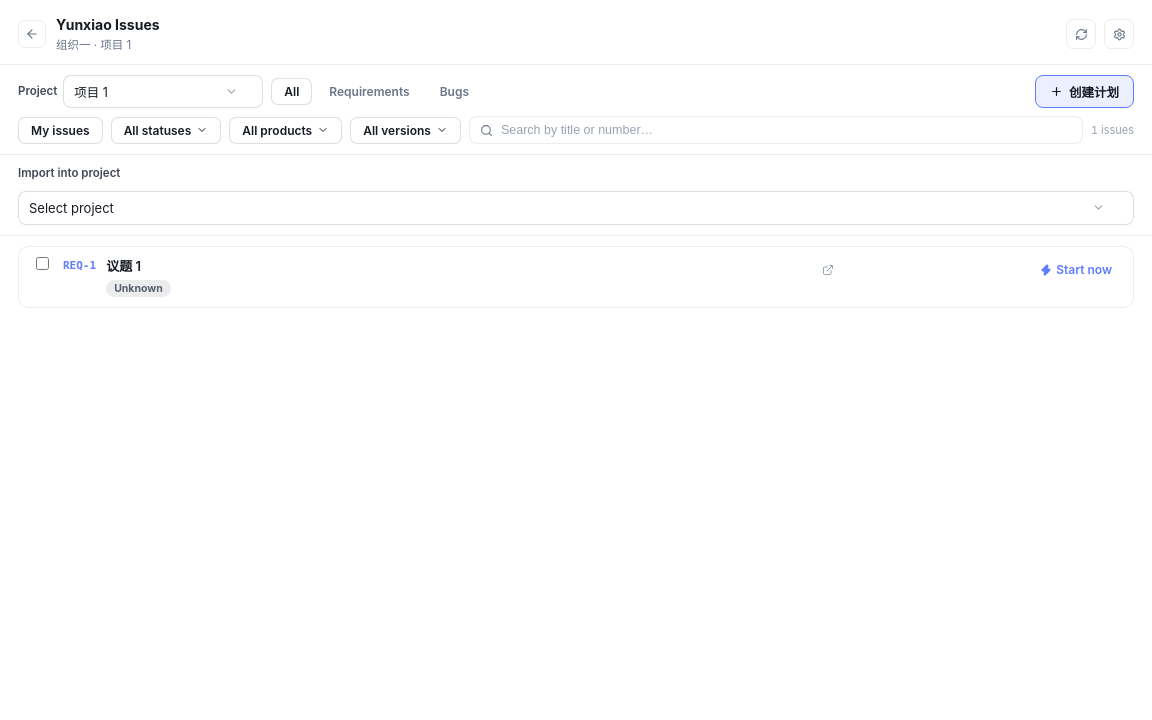
YunxiaoView 议题区项目切换 › 议题区可直接通过下拉切换云效项目并重新加载议题
The image size is (1152, 720).
Click the dropdown labelled "项目 1" at (163, 92), box [63, 75, 263, 108]
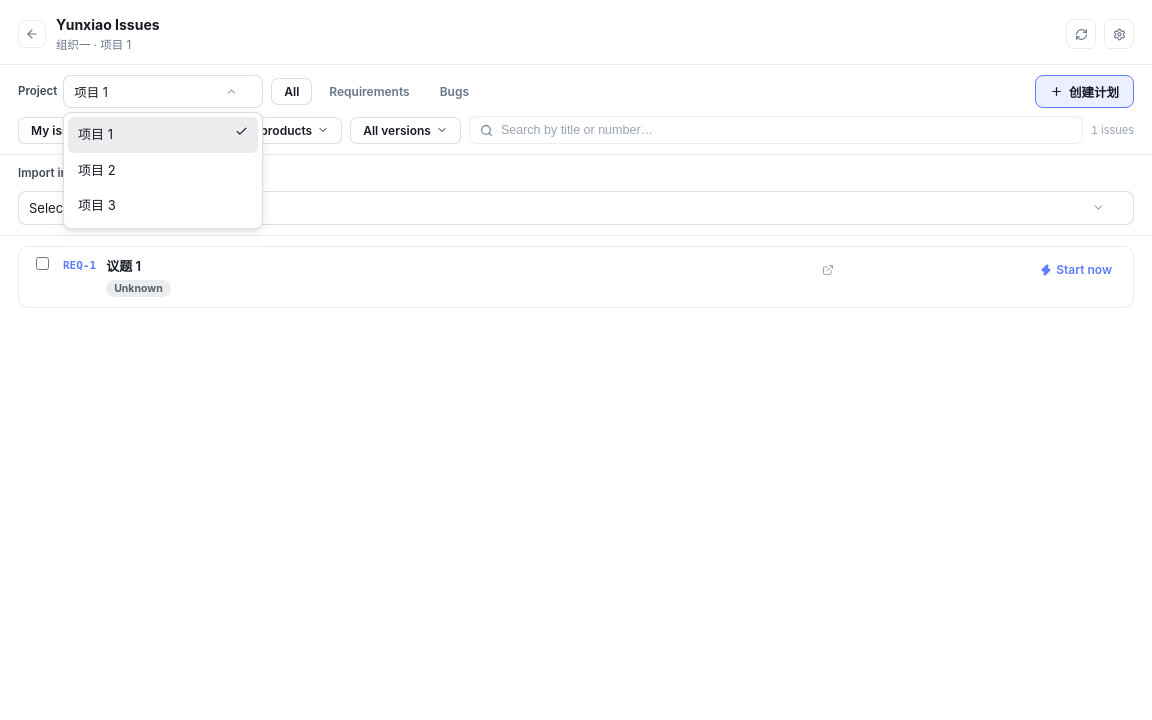
Click the option "项目 2" at (97, 170), box [78, 162, 116, 178]
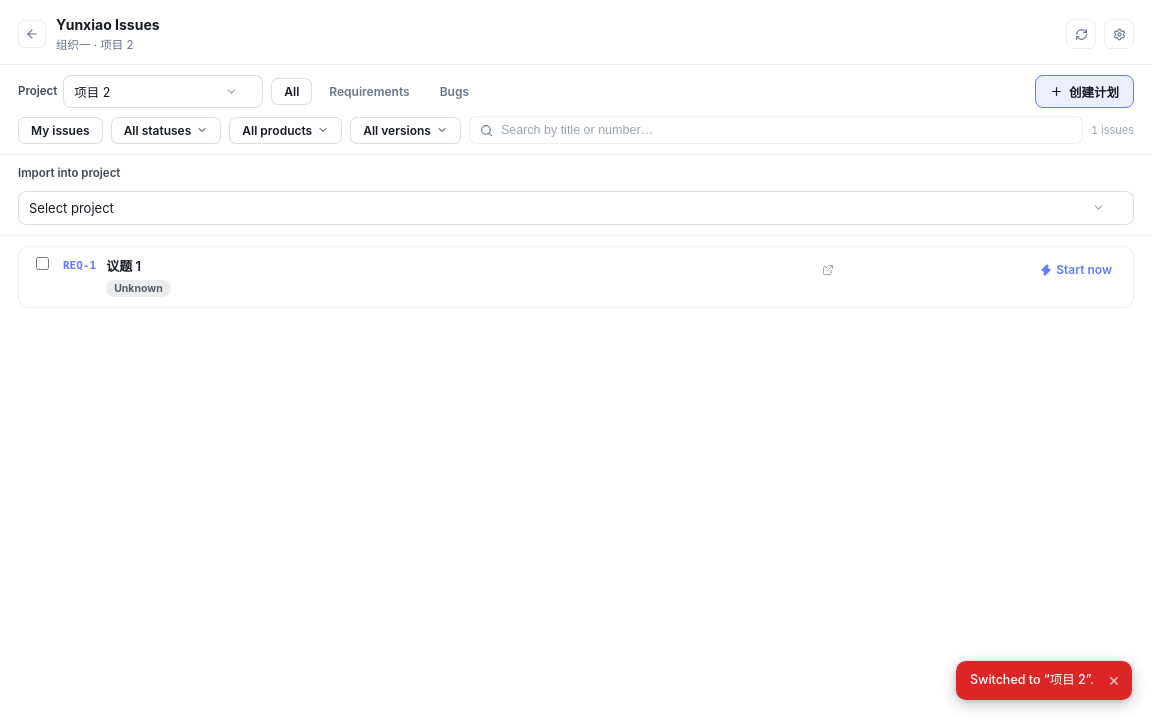
Expected: the text "项目 2" is shown, [74, 82, 110, 101]
Expected: the dropdown labelled "项目 2" is shown, [63, 75, 263, 108]
